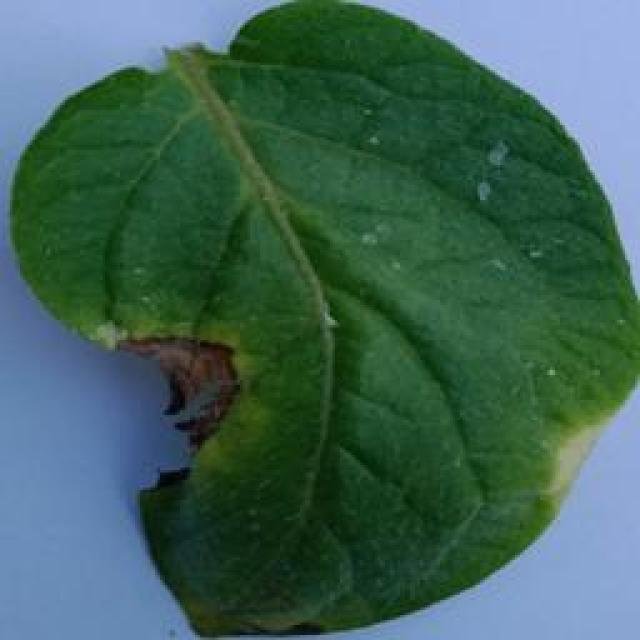Potato_Late_Blight: (12, 5, 640, 630)
